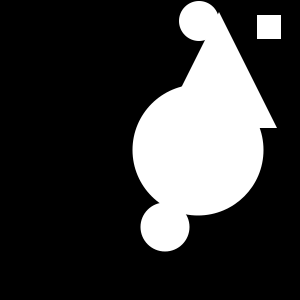circle: (257, 15, 281, 39)
rectangle: (132, 84, 264, 215), (140, 202, 190, 252), (179, 1, 219, 41)
triangle: (161, 12, 277, 128)
